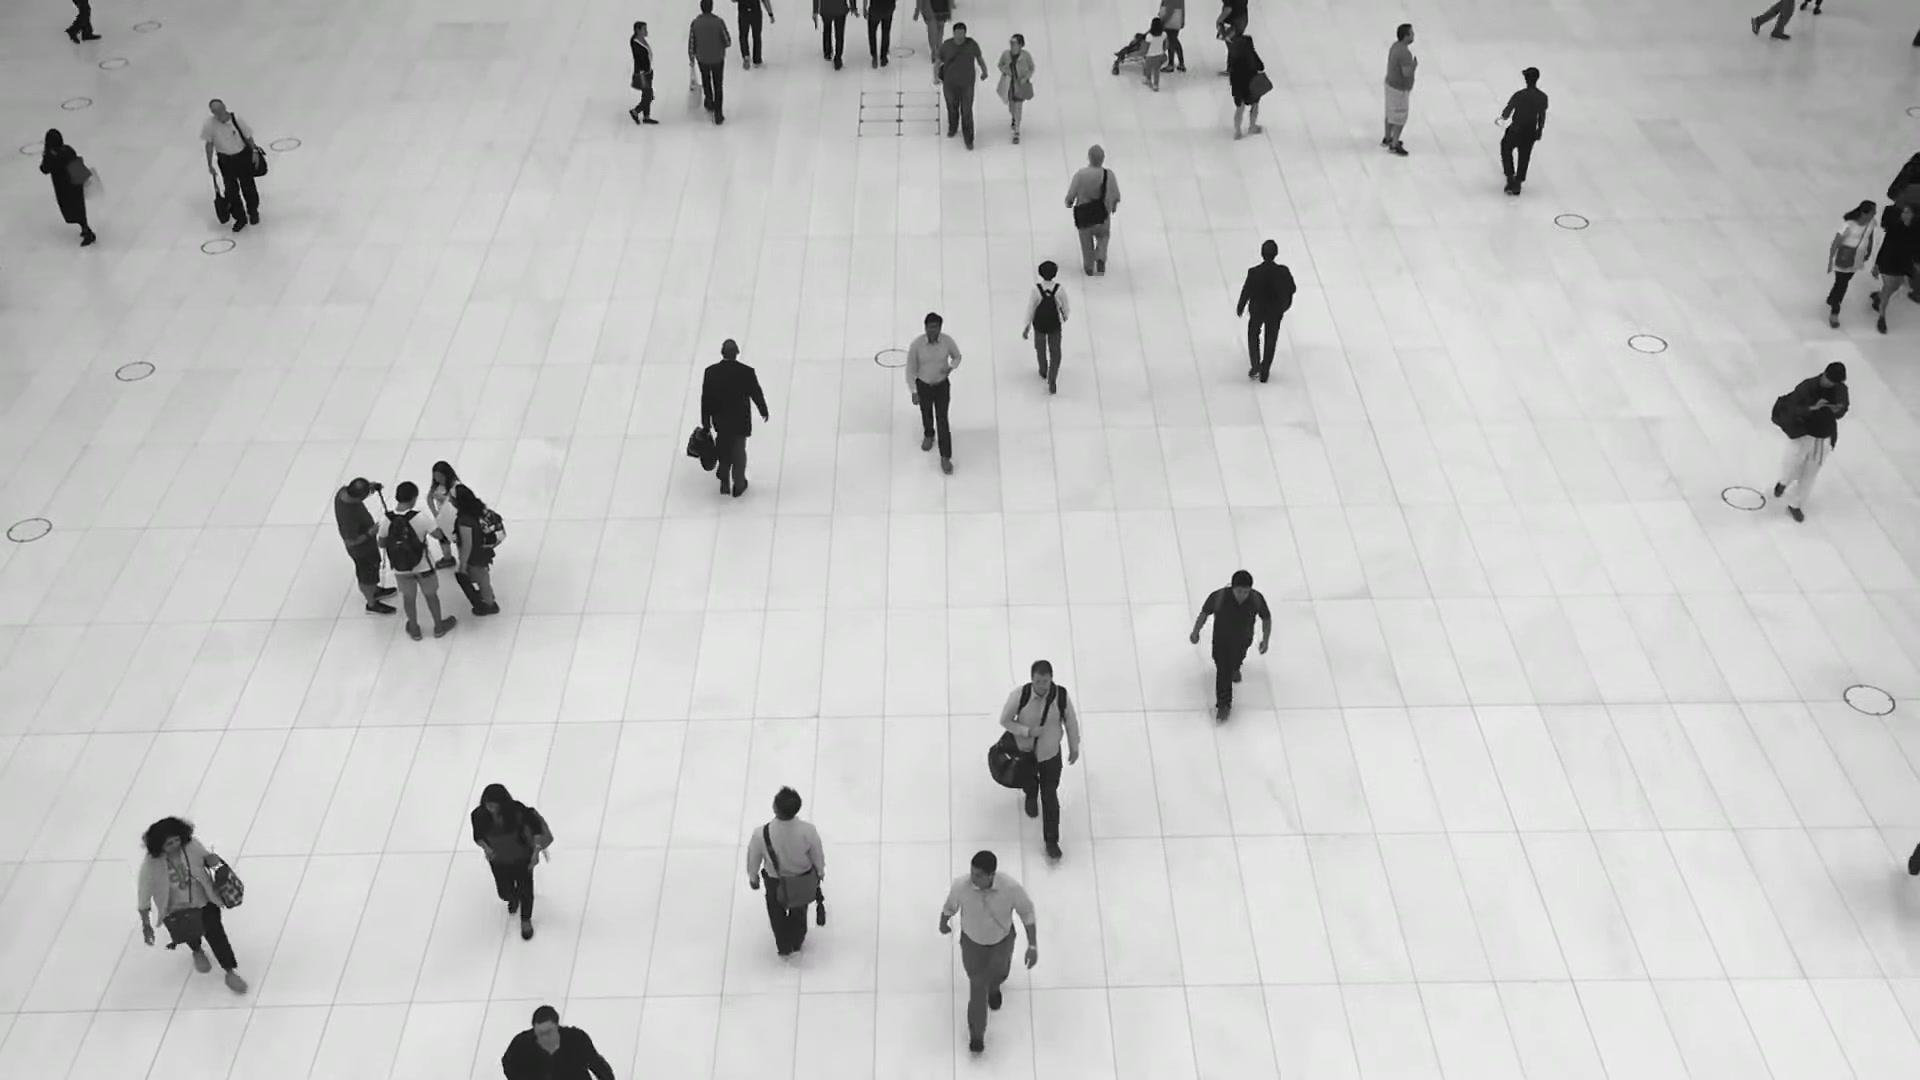person: (938, 850, 1039, 1047), (137, 818, 246, 992), (999, 658, 1081, 857), (745, 785, 827, 969), (377, 479, 459, 639), (1773, 363, 1849, 529), (470, 785, 542, 953), (1194, 567, 1273, 720), (697, 338, 769, 504), (334, 469, 400, 614), (904, 310, 962, 468), (1235, 238, 1297, 384), (198, 99, 260, 229), (499, 1006, 608, 1079), (1065, 144, 1123, 280), (449, 483, 501, 614), (932, 21, 988, 147), (39, 127, 96, 248), (1024, 260, 1073, 399), (1870, 202, 1919, 336), (1826, 199, 1878, 326), (1498, 66, 1547, 197), (686, 0, 732, 122), (1380, 22, 1418, 157), (622, 21, 668, 125), (996, 33, 1036, 145), (425, 459, 462, 580), (1225, 33, 1266, 139), (1141, 16, 1166, 91)
